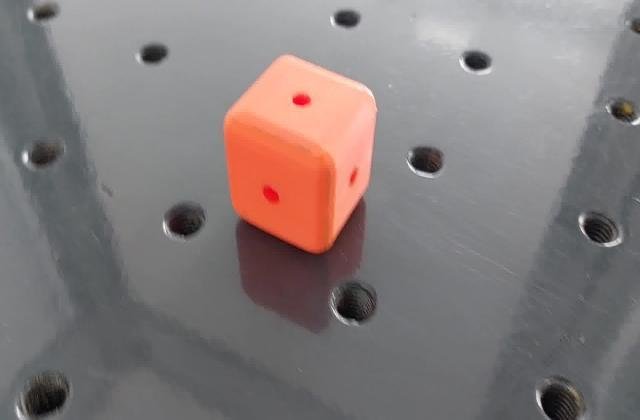cube: (220, 49, 382, 259)
